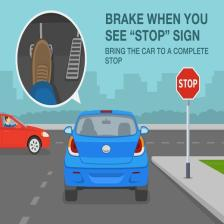Stop-sign: (175, 64, 202, 102)
